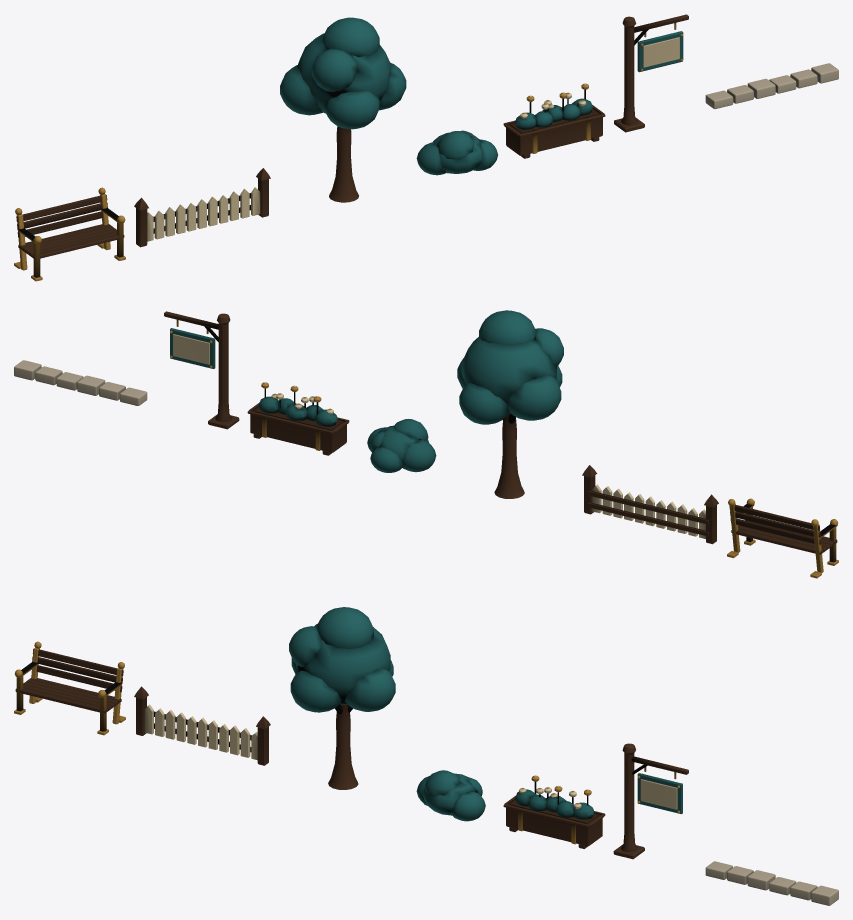
Rendered from town_props_set.glb.
3 views of the same model, one above another, from view 1: azimuth 30°, elevation 25°; view 2: azimuth 150°, elevation 25°; view 3: azimuth 330°, elevation 25° (orthographic).
Parts seen in each view (by area): view 1: TownProp_Tree, TownProp_Bench, TownProp_Planter, TownProp_Fence, TownProp_Signboard, TownProp_Shrub, TownProp_PathEdging; view 2: TownProp_Tree, TownProp_Planter, TownProp_Fence, TownProp_Bench, TownProp_Signboard, TownProp_Shrub, TownProp_PathEdging; view 3: TownProp_Tree, TownProp_Bench, TownProp_Planter, TownProp_Fence, TownProp_Signboard, TownProp_Shrub, TownProp_PathEdging.
Part boxes in pixels (bbox=[...]): TownProp_Tree: bbox=[280, 17, 406, 202]; TownProp_Bench: bbox=[14, 187, 125, 281]; TownProp_Planter: bbox=[503, 83, 605, 158]; TownProp_Fence: bbox=[134, 168, 270, 247]; TownProp_Signboard: bbox=[614, 14, 688, 132]; TownProp_Shrub: bbox=[416, 130, 497, 175]; TownProp_PathEdging: bbox=[705, 63, 838, 109]; TownProp_Tree: bbox=[457, 310, 563, 498]; TownProp_Planter: bbox=[247, 382, 349, 455]; TownProp_Fence: bbox=[582, 465, 718, 544]; TownProp_Bench: bbox=[727, 498, 838, 578]; TownProp_Signboard: bbox=[164, 311, 239, 429]; TownProp_Shrub: bbox=[367, 419, 436, 472]; TownProp_PathEdging: bbox=[14, 360, 147, 405]; TownProp_Tree: bbox=[289, 607, 395, 789]; TownProp_Bench: bbox=[14, 641, 125, 735]; TownProp_Planter: bbox=[503, 775, 605, 848]; TownProp_Fence: bbox=[134, 686, 270, 765]; TownProp_Signboard: bbox=[613, 743, 688, 859]; TownProp_Shrub: bbox=[416, 770, 485, 821]; TownProp_PathEdging: bbox=[705, 861, 838, 905].
Bounding box in the file's own units: 0.379 × 0.079 × 0.0486.
